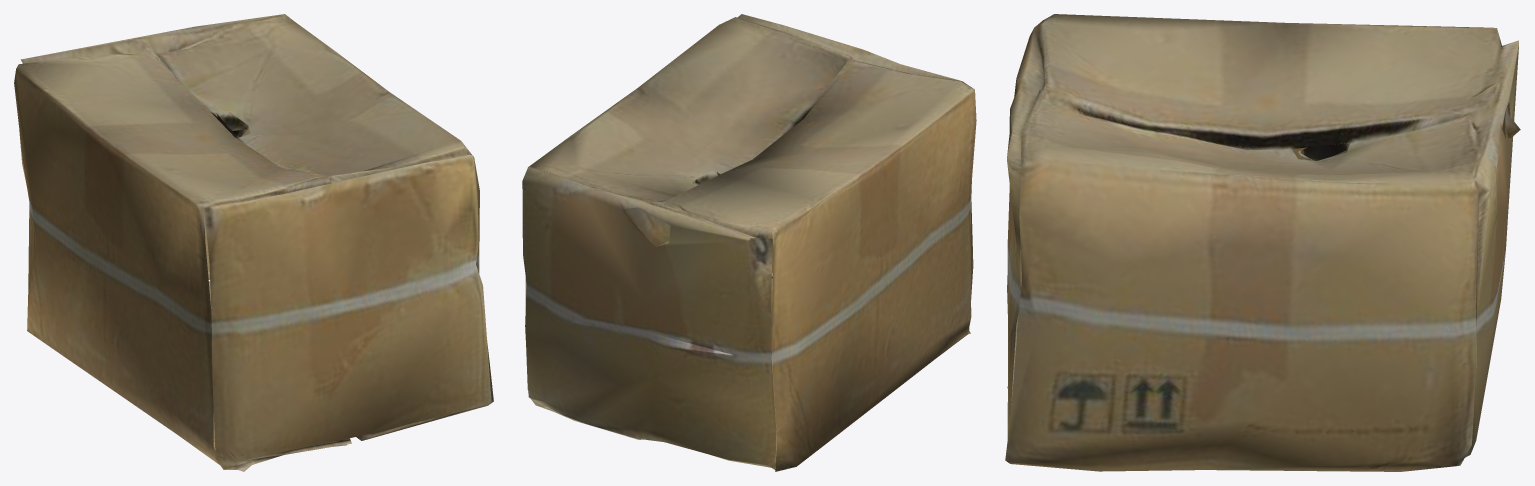
File: obj_carton.glb
The picture shows the model from 3 angles, left to right: view 1: azimuth 30°, elevation 25°; view 2: azimuth 150°, elevation 25°; view 3: azimuth 270°, elevation 25°; orthographic projection. The views are drawn at different scales.
Visible parts, largest first — view 1: obj_carton; view 2: obj_carton; view 3: obj_carton.
Boxes of the visible parts, x1,y1,x2,y2 form: obj_carton: (14, 14, 493, 471); obj_carton: (522, 14, 976, 471); obj_carton: (1005, 14, 1520, 471).
Bounding box in the file's own units: 0.3873 × 0.34 × 0.5155.
Materials: 1 (1 with a texture image).
